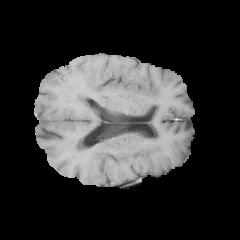glioma: (109, 70, 158, 103)
